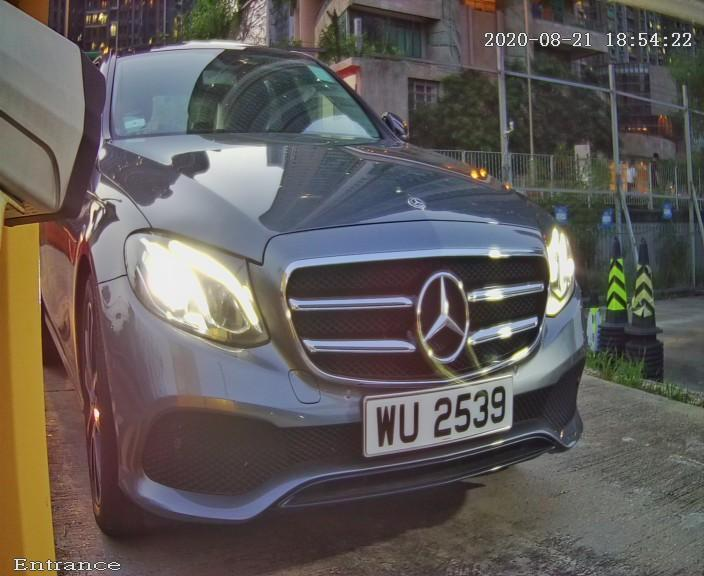Car: (19, 8, 632, 564)
License Plate: (339, 352, 526, 473)
